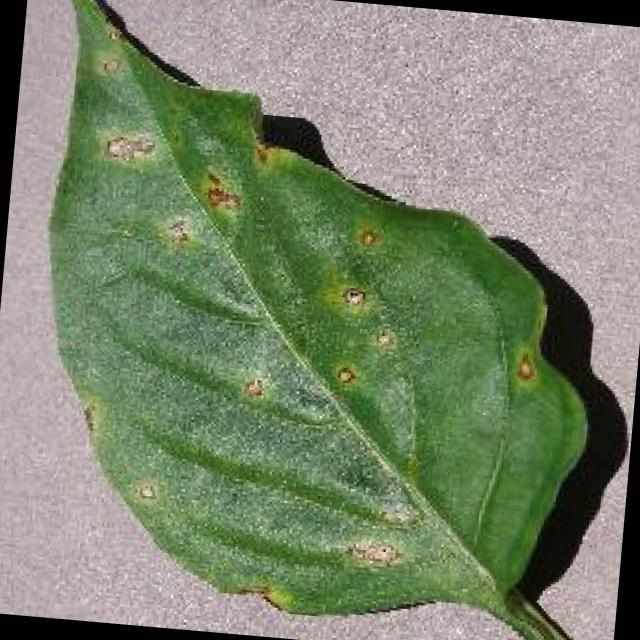Chilli_Bacterial_Spot: (0, 0, 632, 640), (306, 215, 412, 400), (338, 533, 404, 573), (196, 169, 245, 218), (100, 128, 158, 168), (158, 211, 194, 251), (367, 322, 400, 357), (336, 282, 368, 312), (128, 476, 160, 506), (510, 350, 538, 384), (238, 374, 268, 404), (352, 222, 382, 252), (330, 362, 360, 388)
